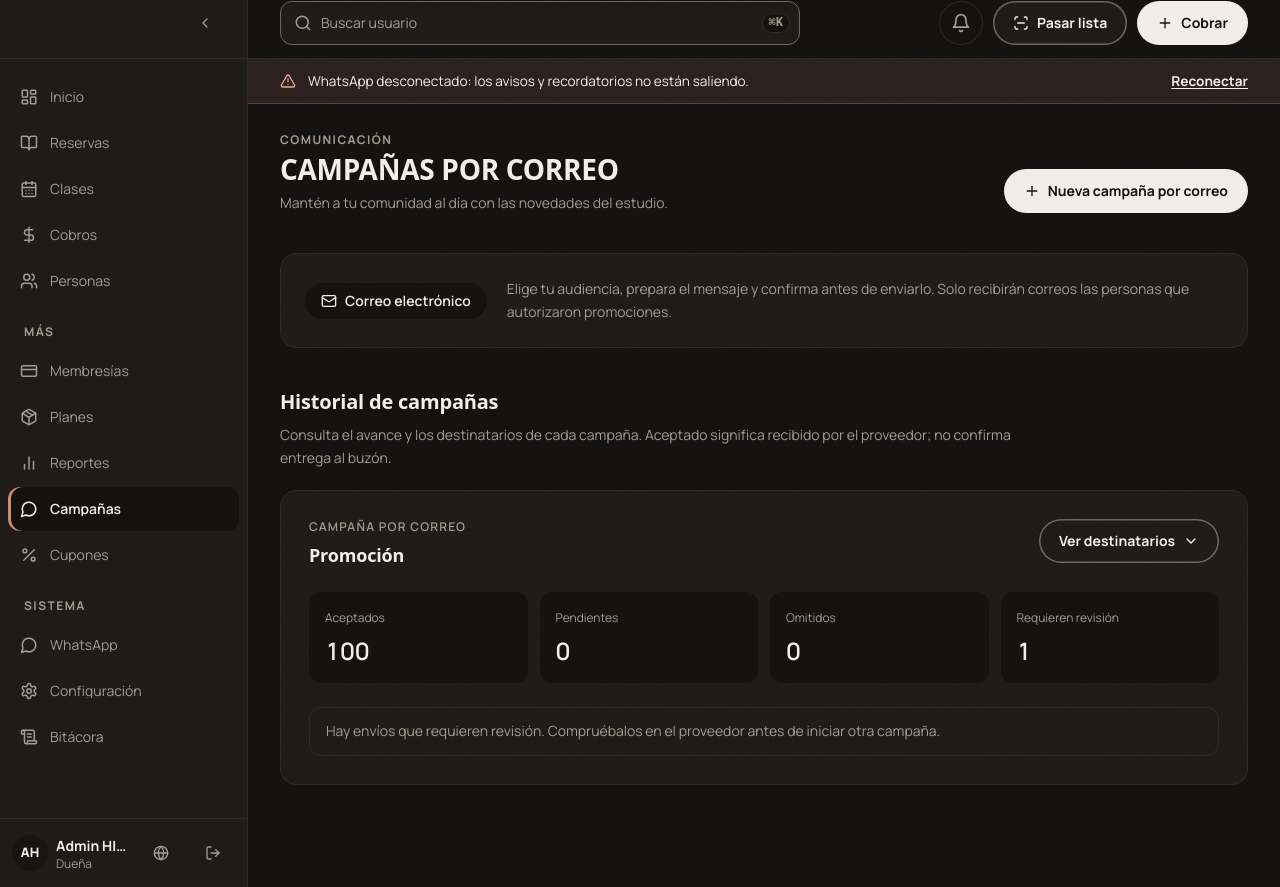
it: muestra destinatarios privados y pagina las incidencias con identificador del proveedor
Click the button "Ver destinatarios": {"x": 1129, "y": 541} [1039,519,1219,563]
(page scrolled)
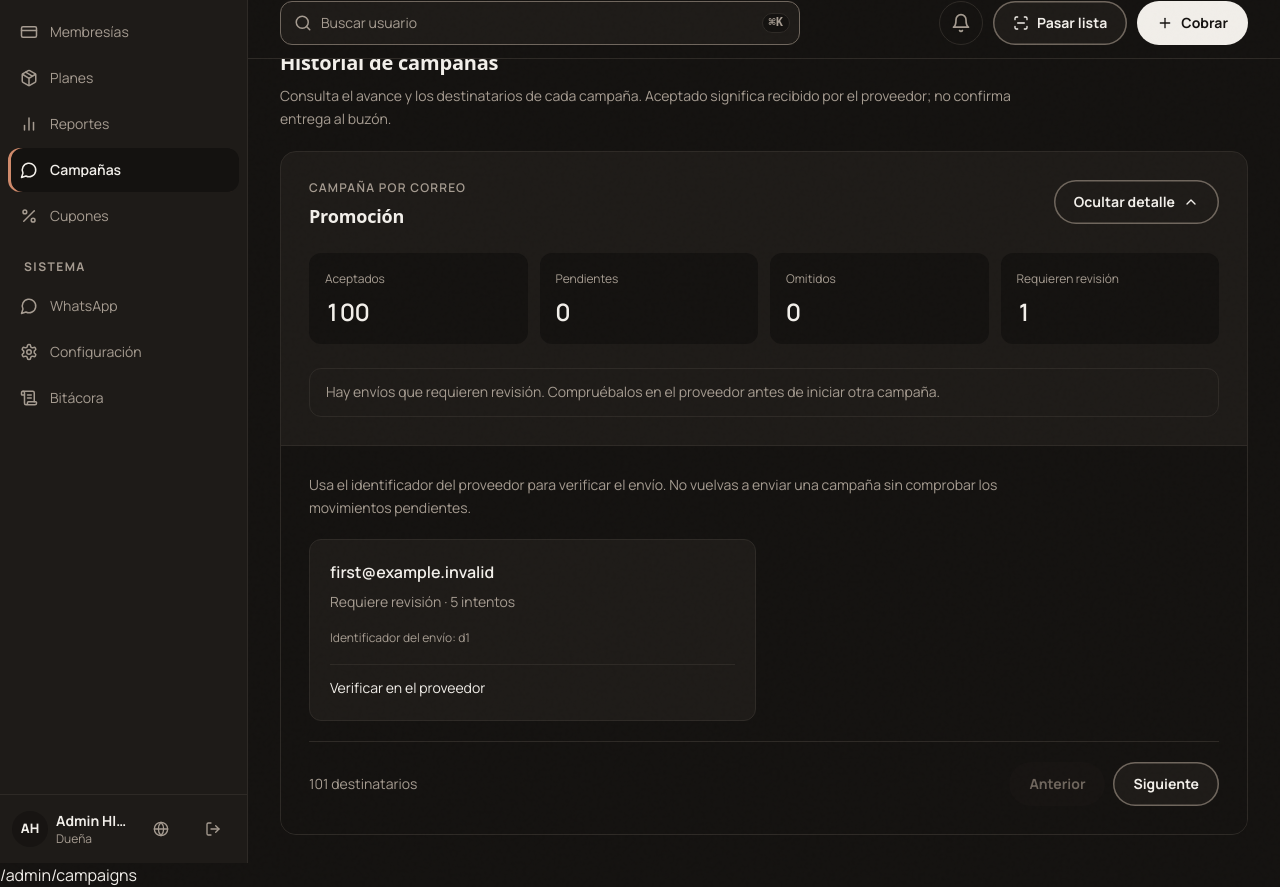
Expected: the text "first@example.invalid" is shown, [330,561,494,583]
Expected: the text "Verificar en el proveedor" is shown, [330,664,735,700]
Click the button "Siguiente": {"x": 1166, "y": 784} [1114,762,1219,806]
(page scrolled)
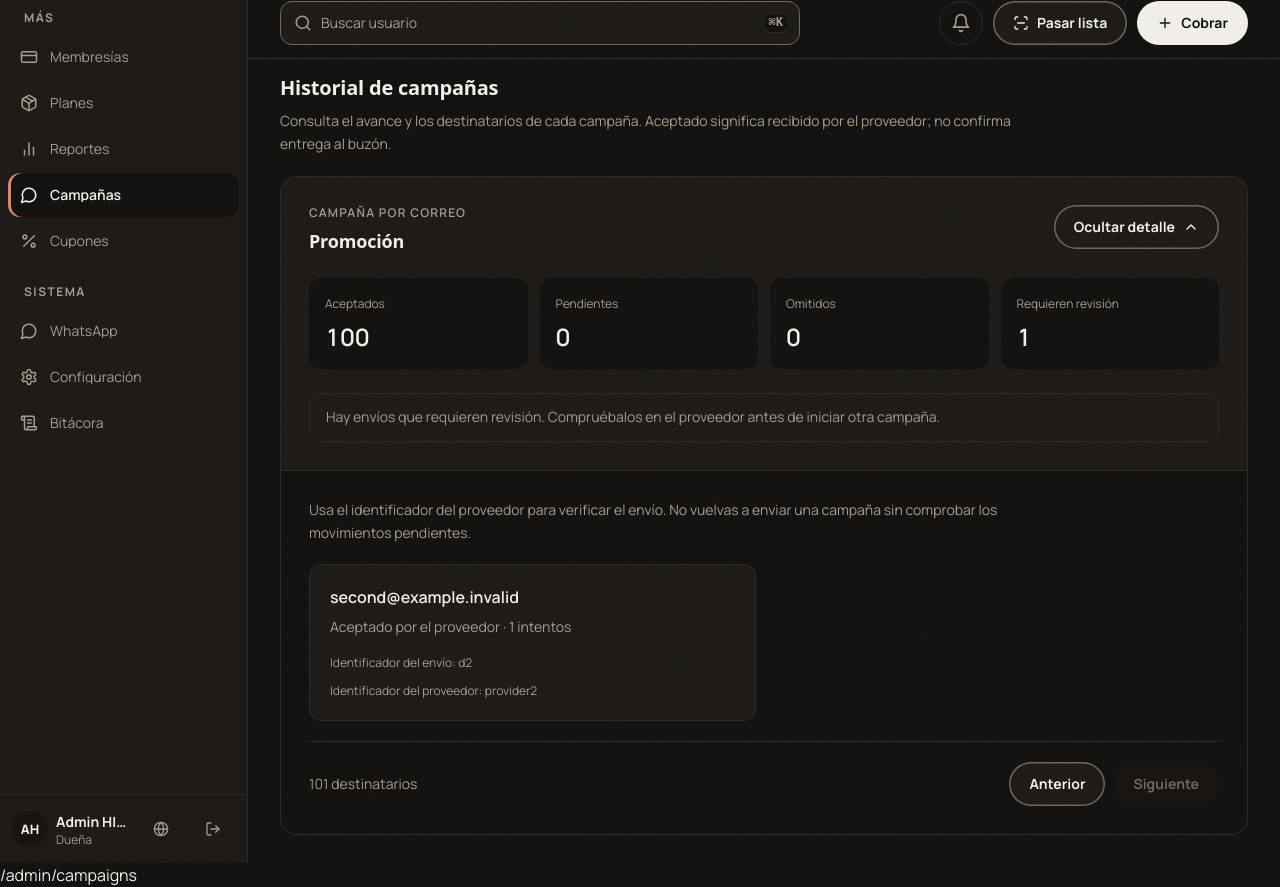
Expected: the text "second@example.invalid" is shown, [330,586,519,608]
Expected: the text "Identificador del proveedor: provider2" is shown, [330,682,537,699]
Expected: the button "Siguiente" is disabled, [1114,762,1219,806]
